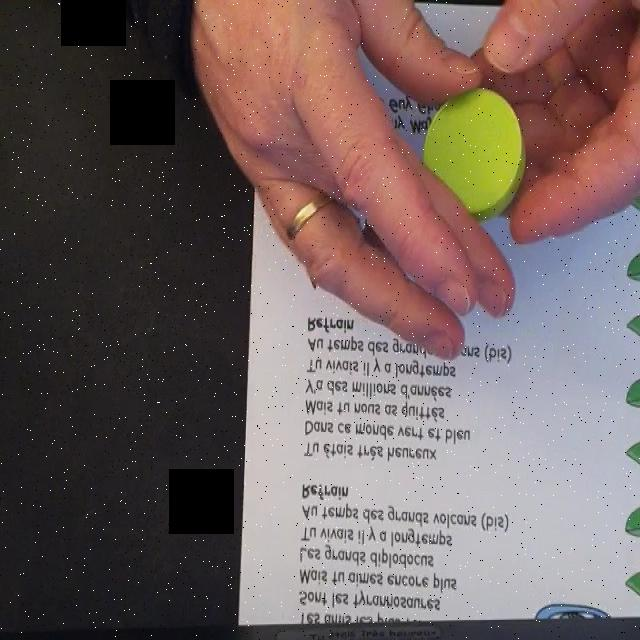round: (422, 86, 526, 224)
